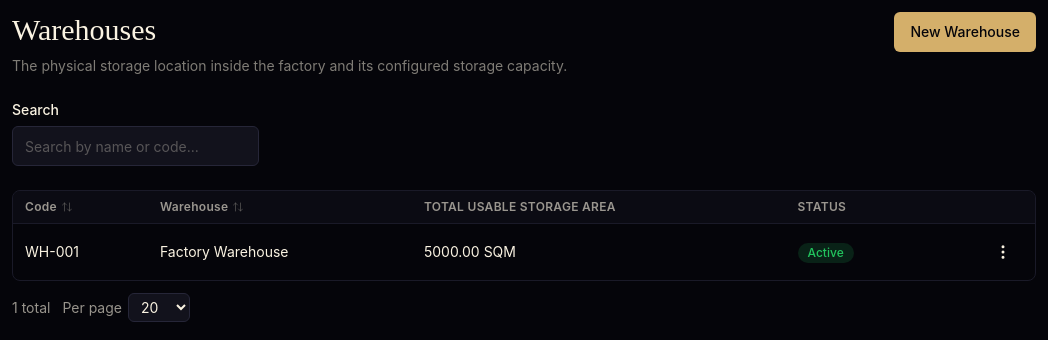
WarehousesPage › rejects a non-positive storage area inline before submitting
Expected: the text "Factory Warehouse" is shown, 148,224 -> 412,280
Click the button "New Warehouse": click(965, 32) 894,12 -> 1036,52
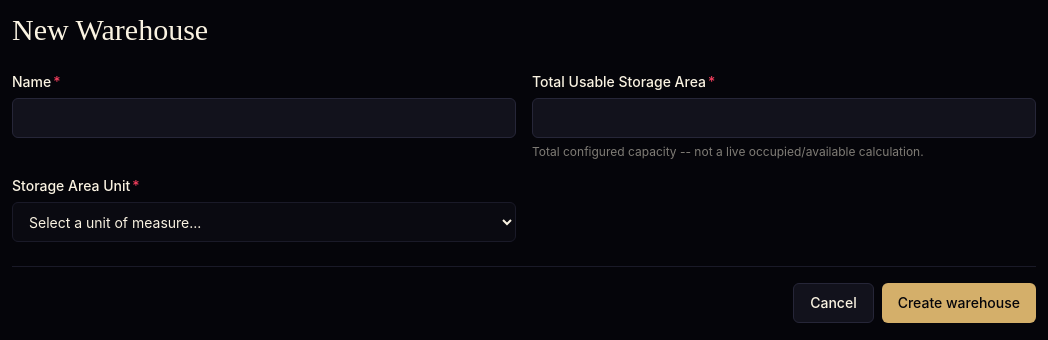
In the field labelled "Name": (264, 118) 12,98 -> 516,138, type "Second Warehouse"
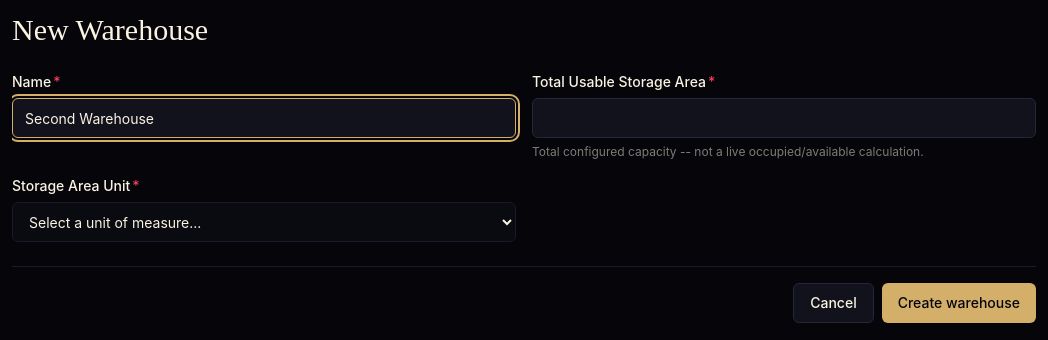
In the field labelled "Total Usable Storage Area": (784, 118) 532,98 -> 1036,138, type "0"
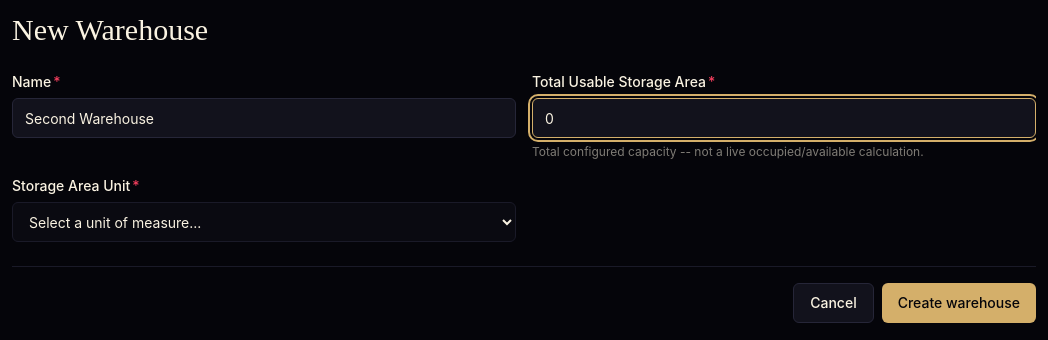
Select "Square Metre (SQM)" in the dropdown labelled "Storage Area Unit": (264, 222) 12,202 -> 516,242
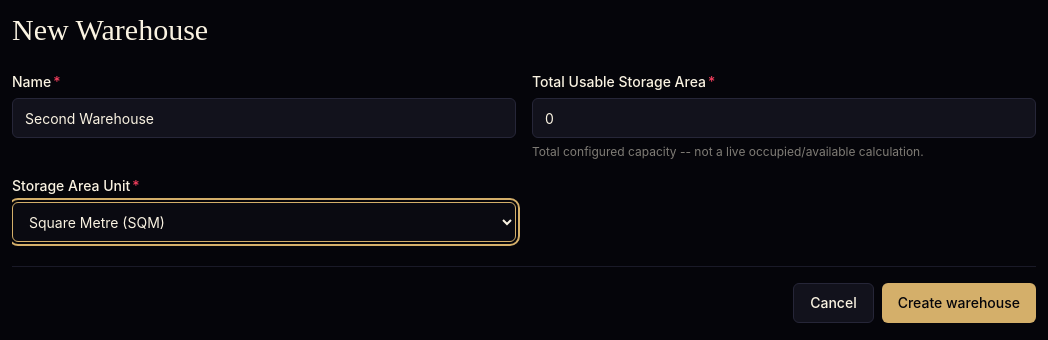
Click the button "Create warehouse": click(959, 303) 882,283 -> 1036,323
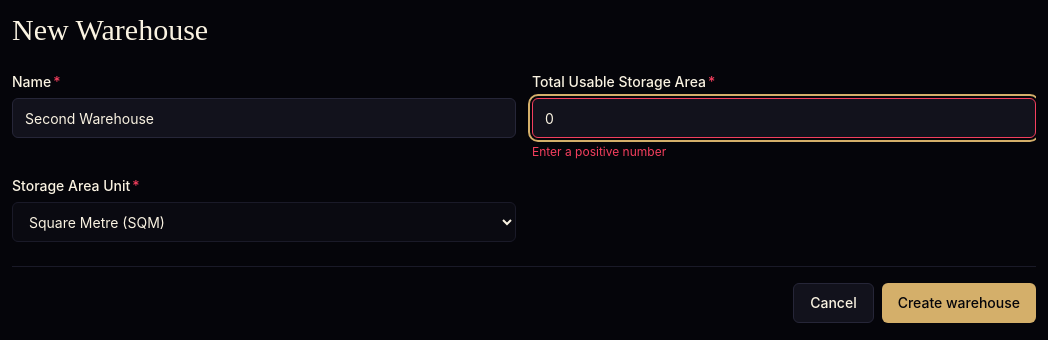
Expected: the text "Enter a positive number" is shown, 532,144 -> 666,159
